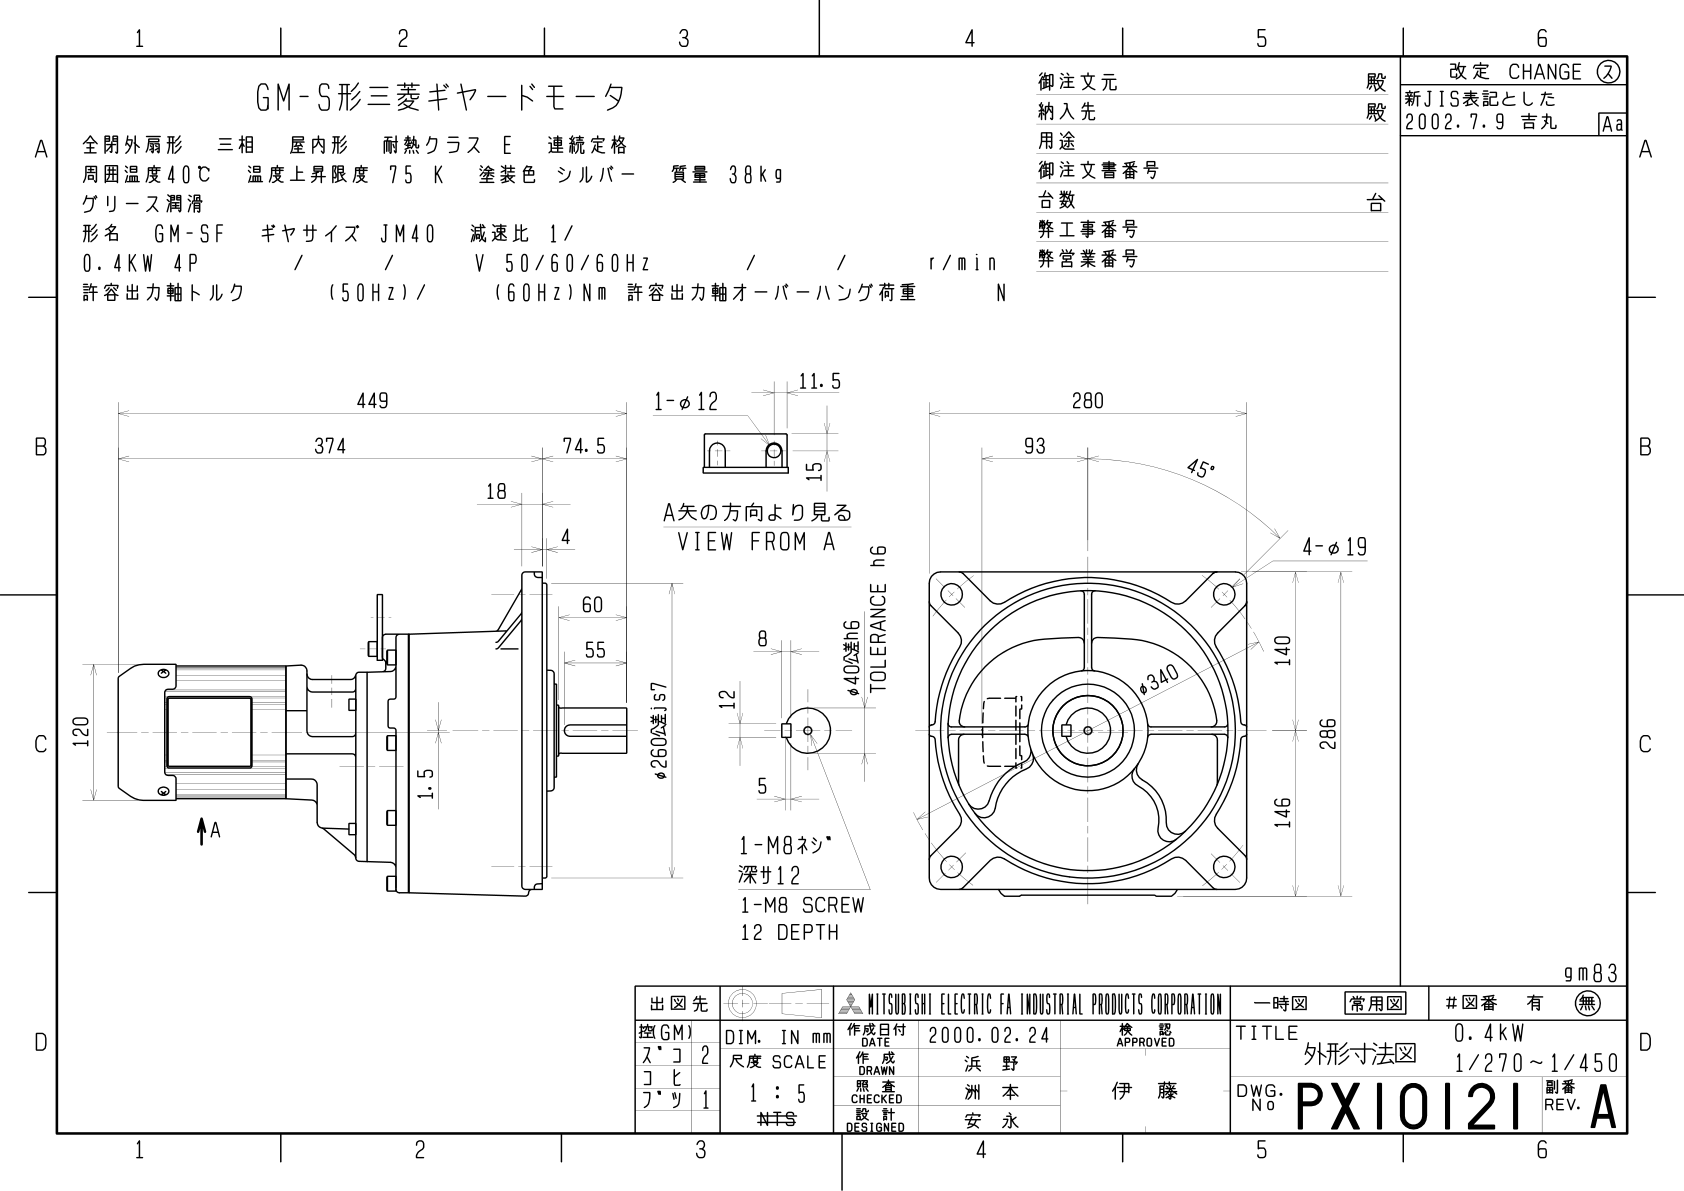GM_S_屋内＿三相_フランジ: (58, 339, 1383, 969)
